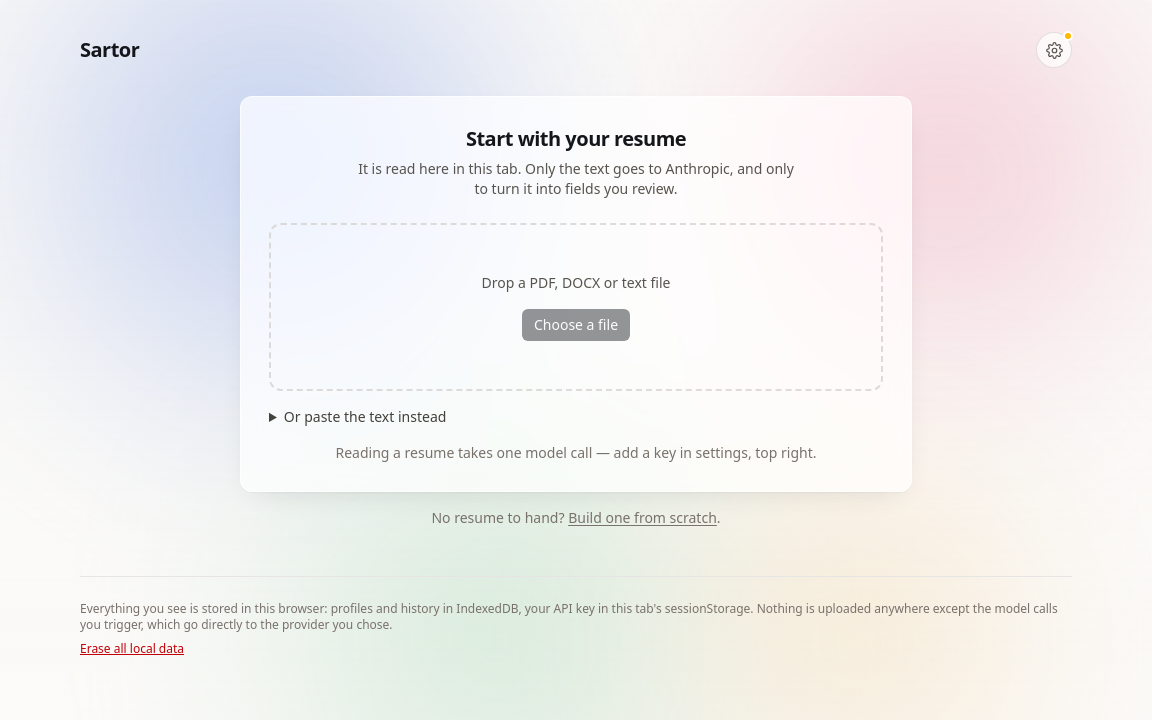
it: App › stores an entered key in sessionStorage and nowhere else
The image size is (1152, 720).
Expected: the heading "Sartor" is shown, [80,36,139,64]
Click the button named "settings". click: (1054, 50)
box: [1036,32,1072,68]
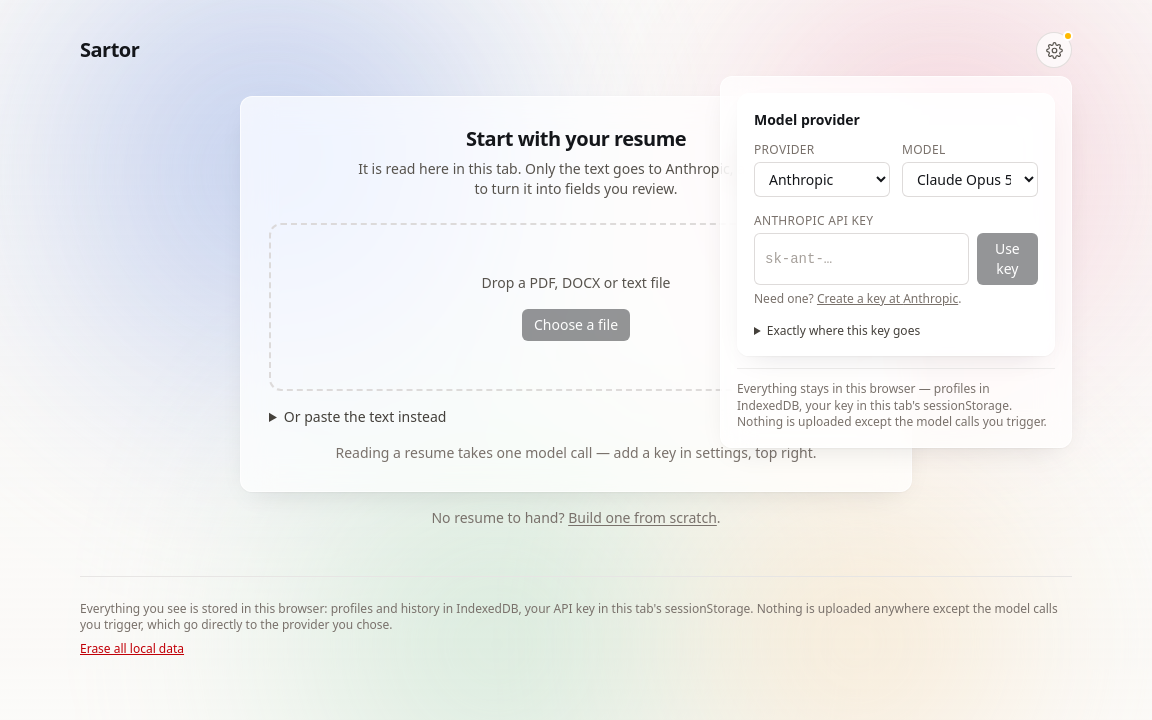
Expected: the dropdown labelled "Provider" is shown, [754,162,890,197]
Type "sk-ant-test-key-1234567890" into the password field labelled "Anthropic API key". click: (861, 259)
box: [754,233,969,285]
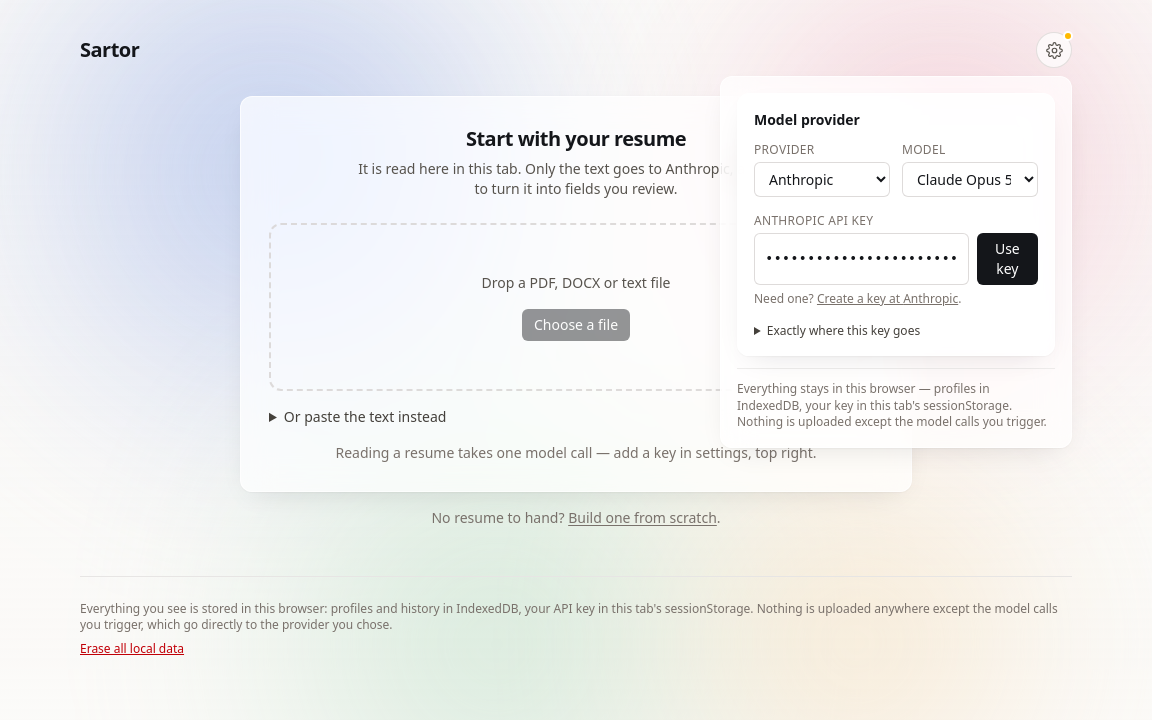
Click the button "Use key". click: (1007, 259)
box: [977,233,1038,285]
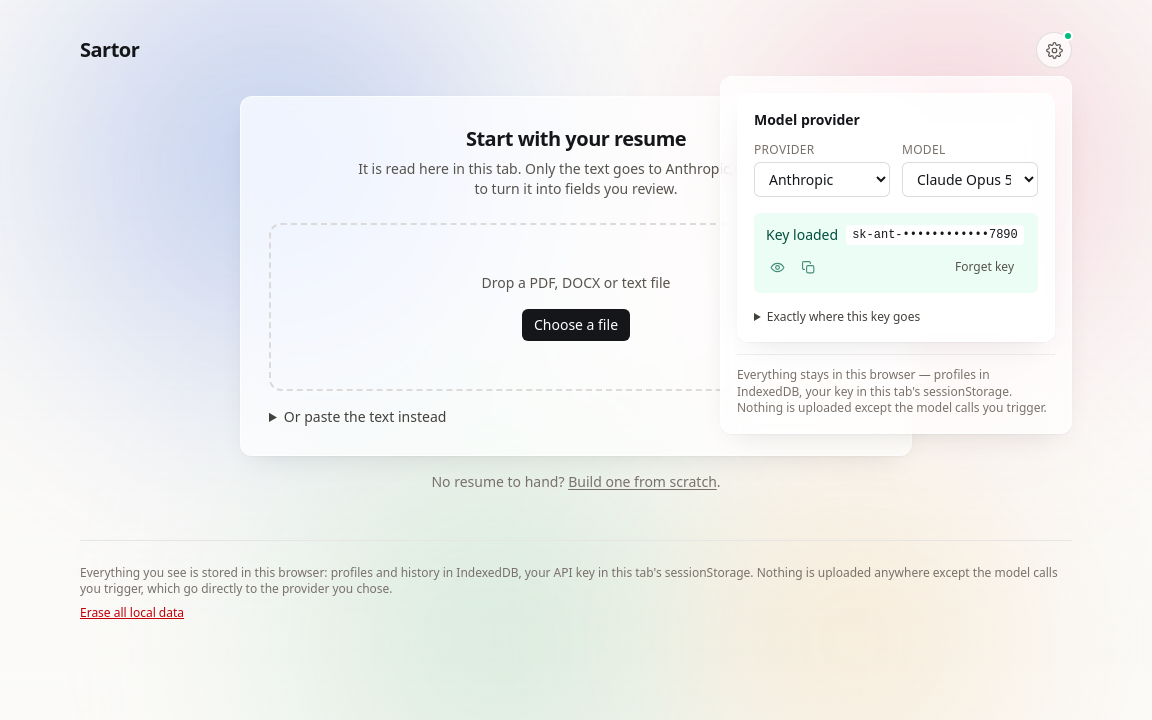
Expected: the text "Key loaded" is shown, [766,225,838,245]
